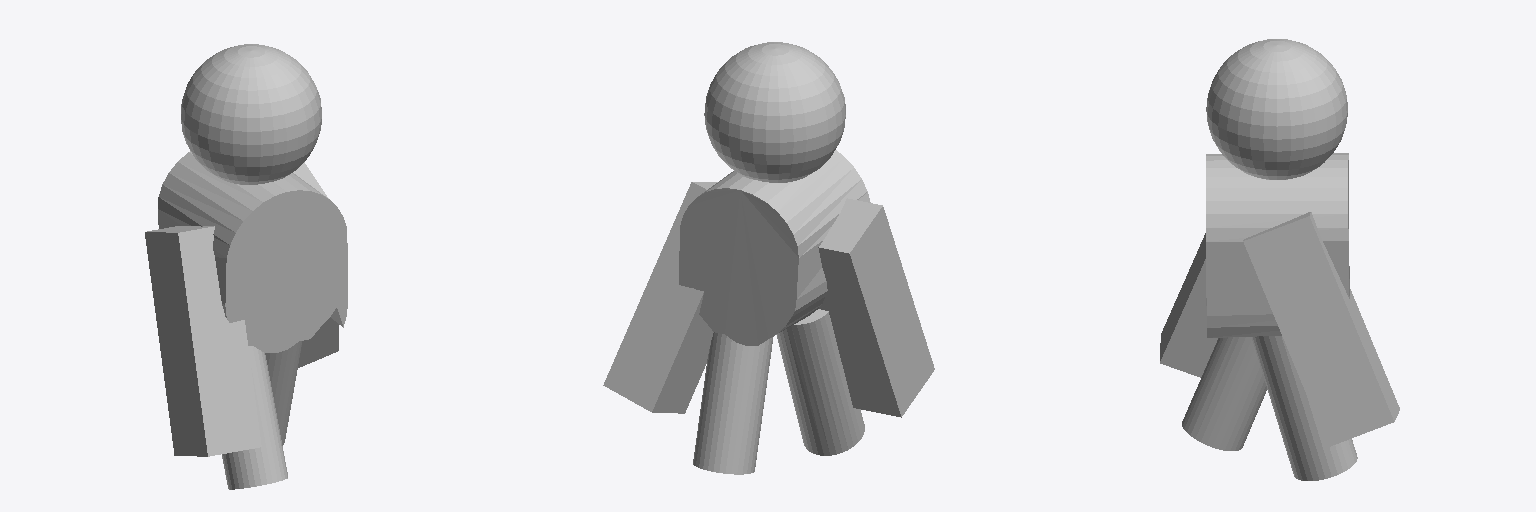
File: Figurine103.obj
3 views of the same model, side by side, from view 1: azimuth 30°, elevation 25°; view 2: azimuth 150°, elevation 25°; view 3: azimuth 270°, elevation 25° (orthographic).
Parts seen in each view (by area): view 1: Cylinder; view 2: Cylinder; view 3: Cylinder.
Part boxes in pixels (x1,y1,x2,y2): Cylinder: (145, 44, 347, 489); Cylinder: (603, 42, 934, 474); Cylinder: (1160, 39, 1399, 480).
Size of the model in its own units: 3.49 by 6.45 by 3.39.